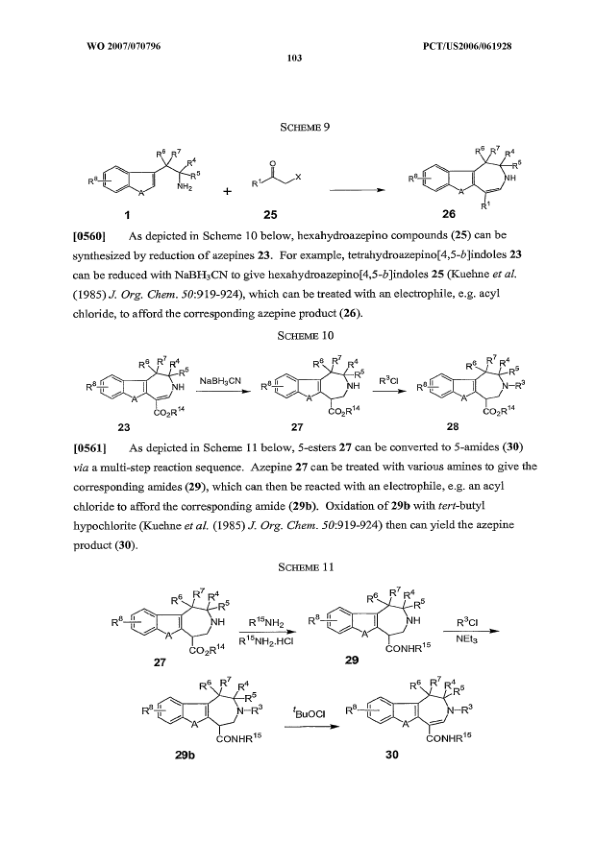compound-structure: (346, 671, 476, 764), (397, 135, 534, 219), (80, 135, 208, 216), (107, 584, 238, 662), (303, 586, 438, 660), (134, 678, 272, 748), (74, 347, 194, 421), (417, 347, 530, 422), (260, 351, 370, 420), (247, 152, 310, 194)
reaction: (61, 560, 551, 784), (47, 112, 536, 228), (56, 325, 555, 435)
reaction-arrow: (239, 611, 303, 663), (447, 608, 500, 655), (282, 701, 339, 744), (324, 174, 392, 205), (197, 366, 251, 405), (375, 368, 407, 411)
